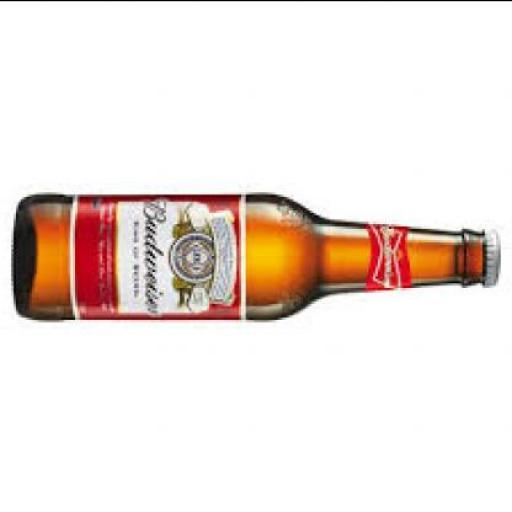glass: (16, 191, 486, 321)
metal: (490, 223, 500, 282)
